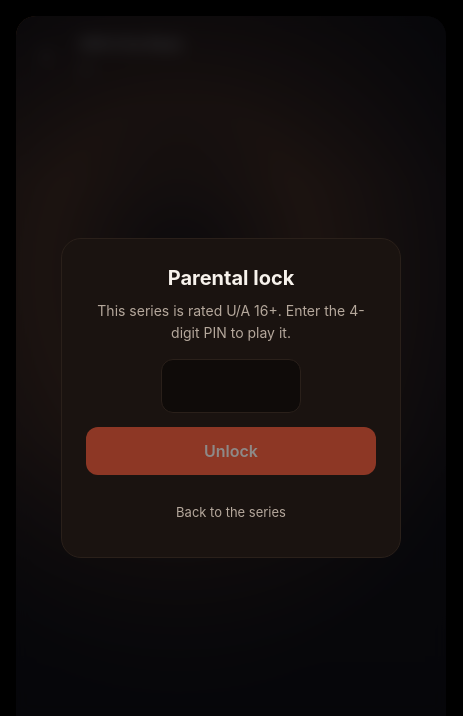
Test: parental PIN gate › a gated series with a PIN set is not even asked of the server until the PIN clears
Expected: the form "Parental lock" is shown, [61,238,401,558]
Type "0000" into the password field named "Parental PIN". click: [231, 386]
box: [161,359,301,413]
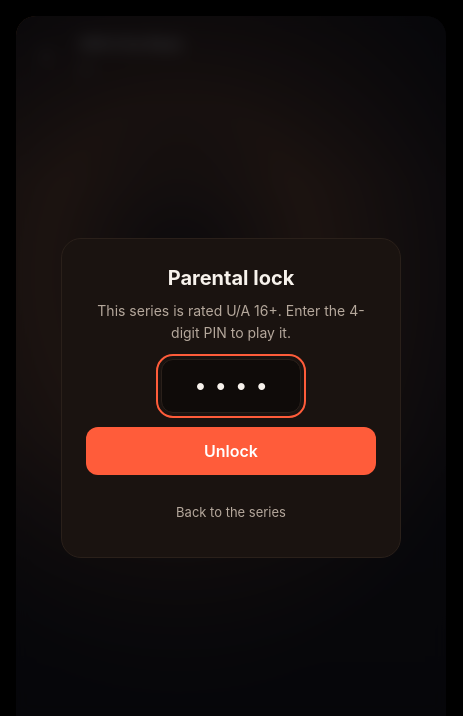
Click the button "Unlock". click: [231, 451]
box: [86,427,376,475]
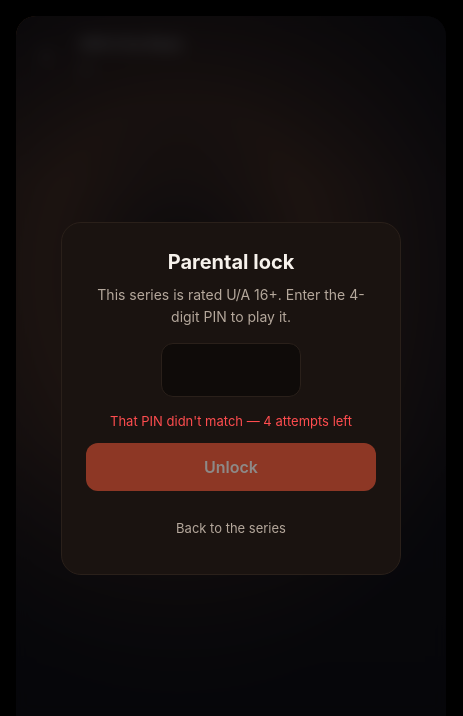
Expected: the message shows "didn't match", [110,413,352,429]
Type "1234" into the password field named "Parental PIN". click: [231, 370]
box: [161,343,301,397]
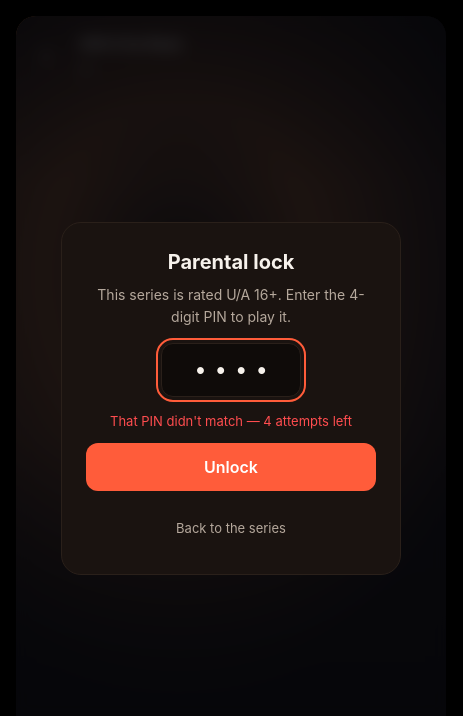
Click the button "Unlock". click: [231, 467]
box: [86,443,376,491]
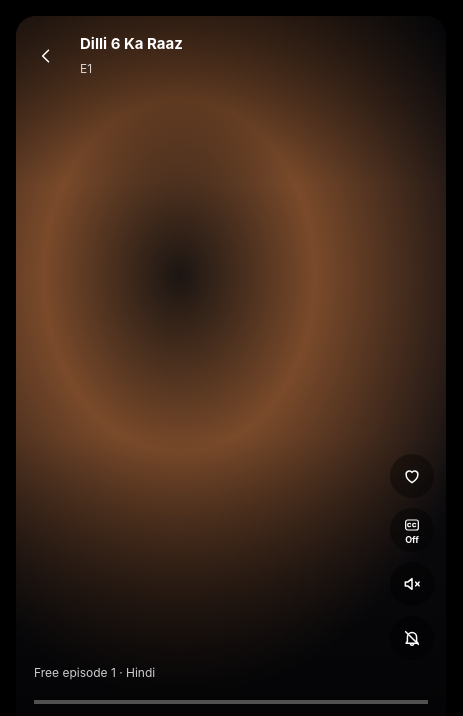
Expected: the heading "Parental lock" is gone
Expected: the text "Free episode 1 · Hindi" is shown, [34,665,155,680]
